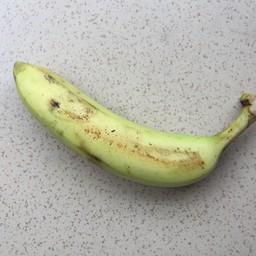Good_banana: (8, 57, 229, 203)
